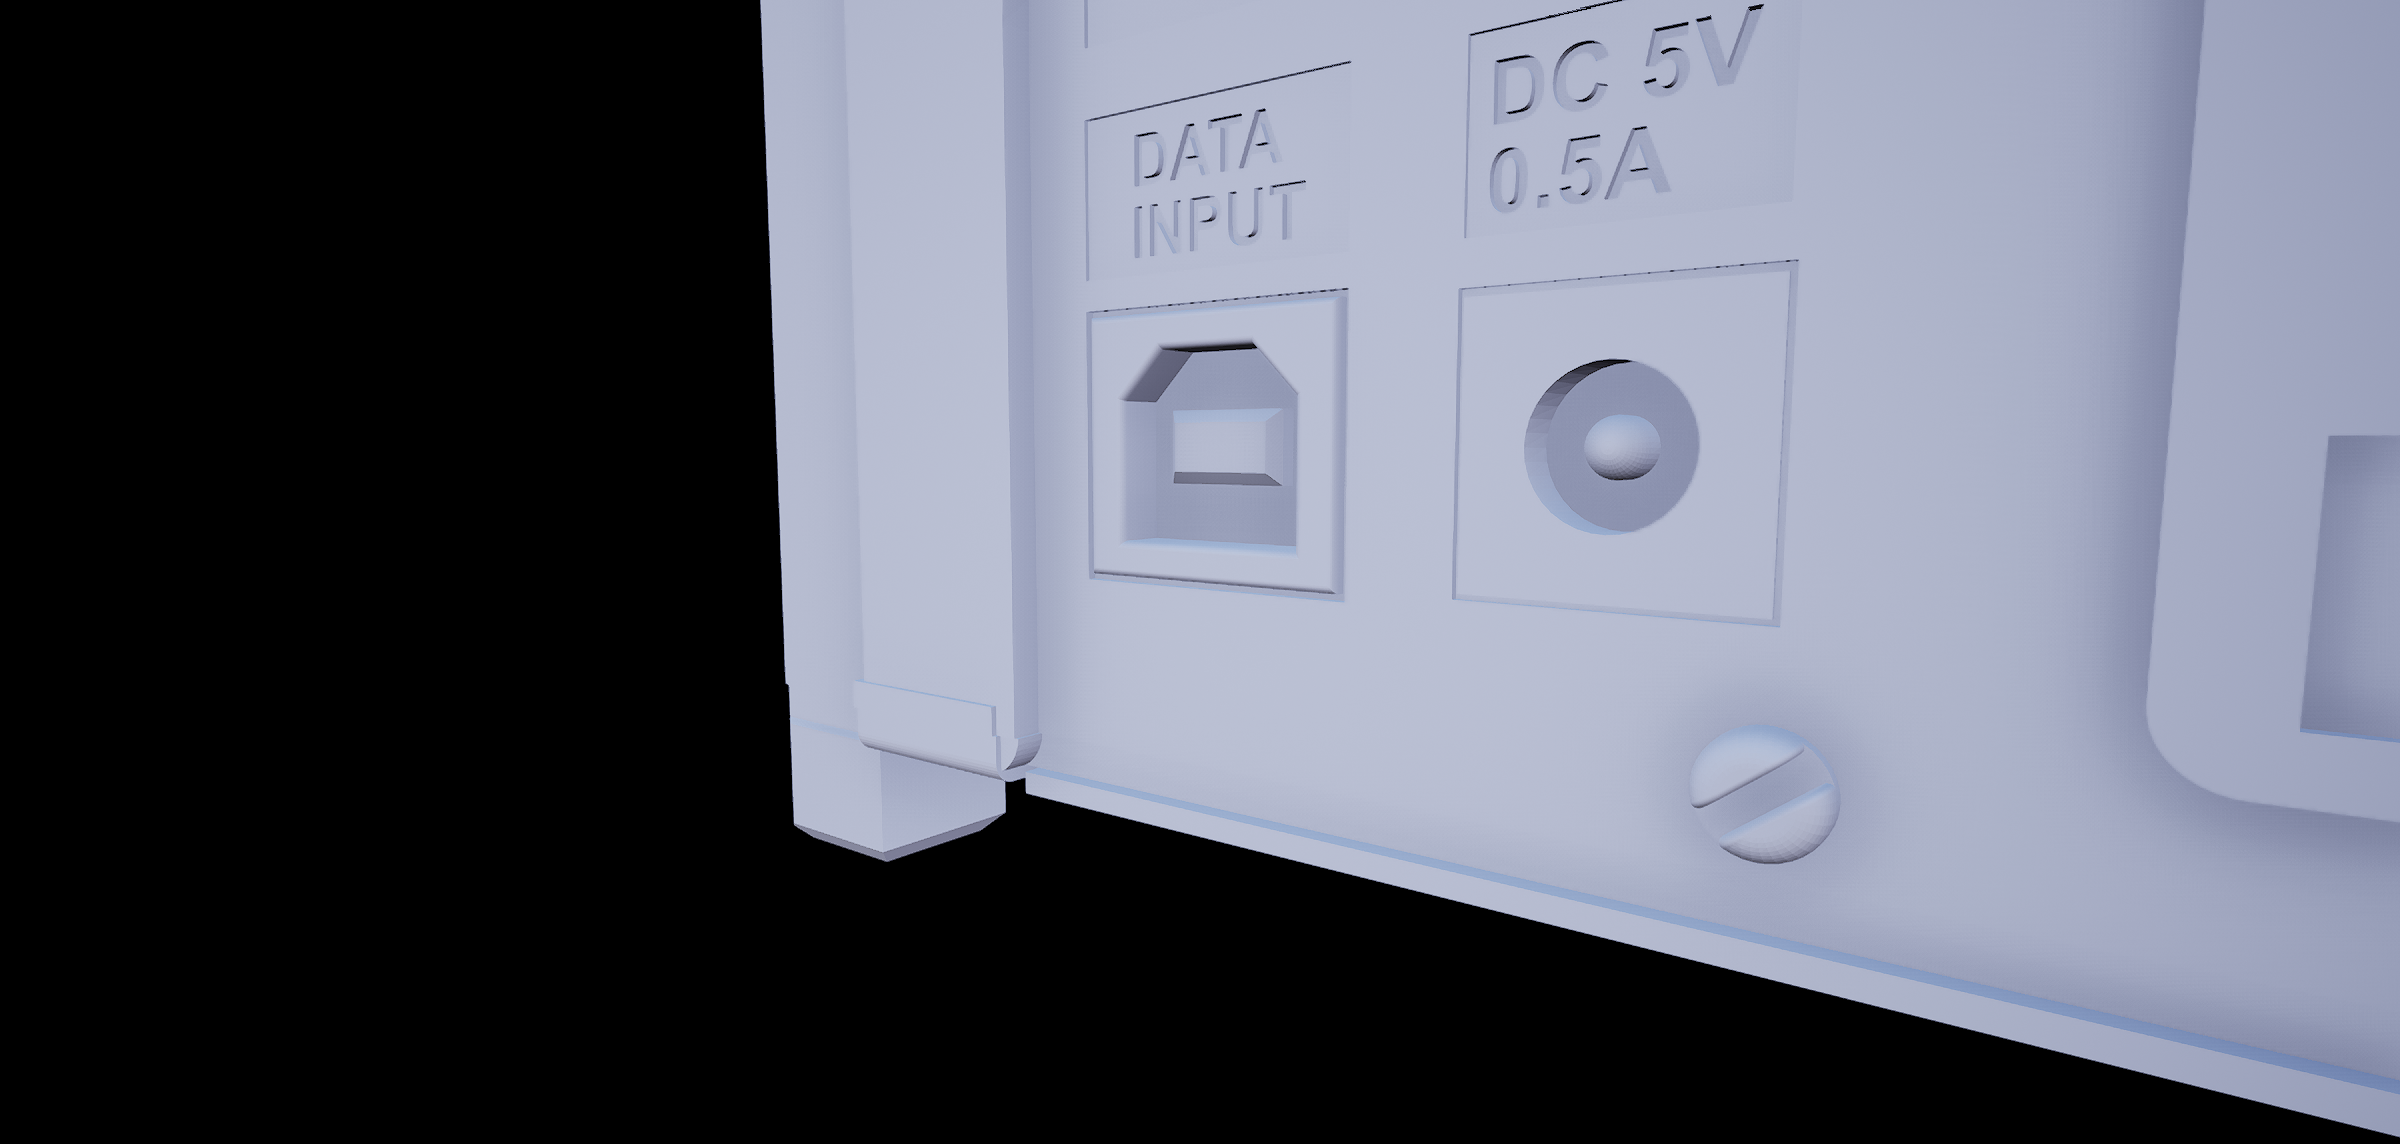dc: (1511, 319, 1710, 562)
usb: (1107, 326, 1312, 564)
